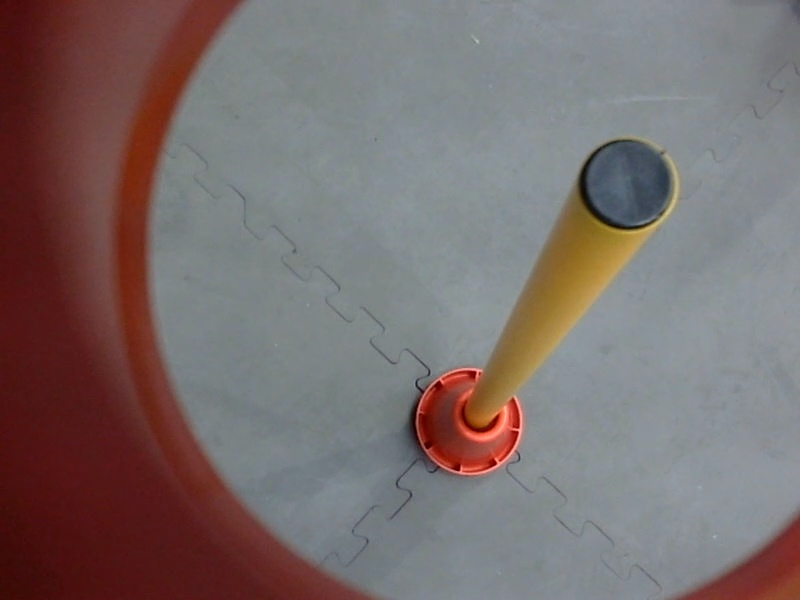tip: (573, 130, 683, 239)
